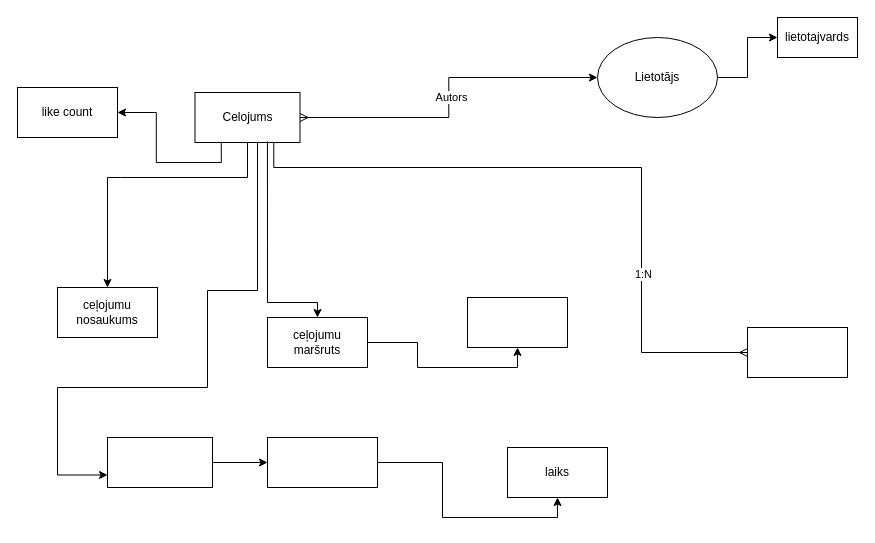
Image size: 875x543. Some labels were removed from this diagram. The centre of each missing label's shape, as x and y in pixels:
"ceļojumu apraksts" goes at (159,462).
"datums" goes at (517,322).
"komentari" goes at (797,352).
"teksts 'ko zināt uz priekšdienām'" goes at (322,462).
